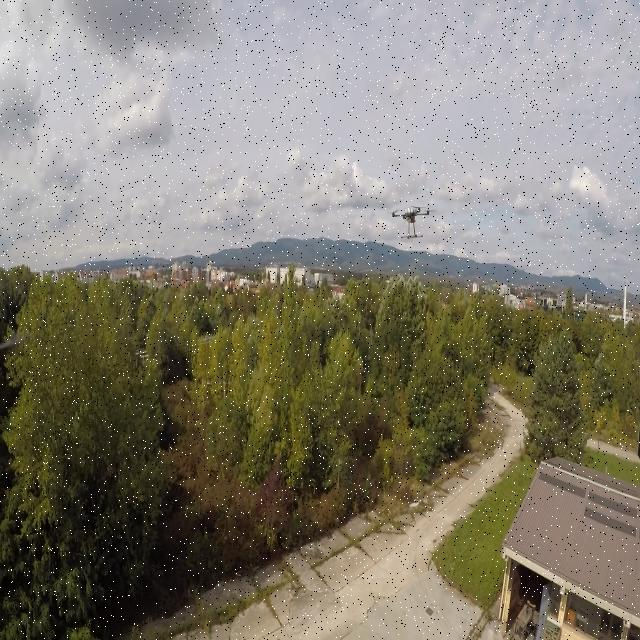UAV: (381, 200, 439, 242)
